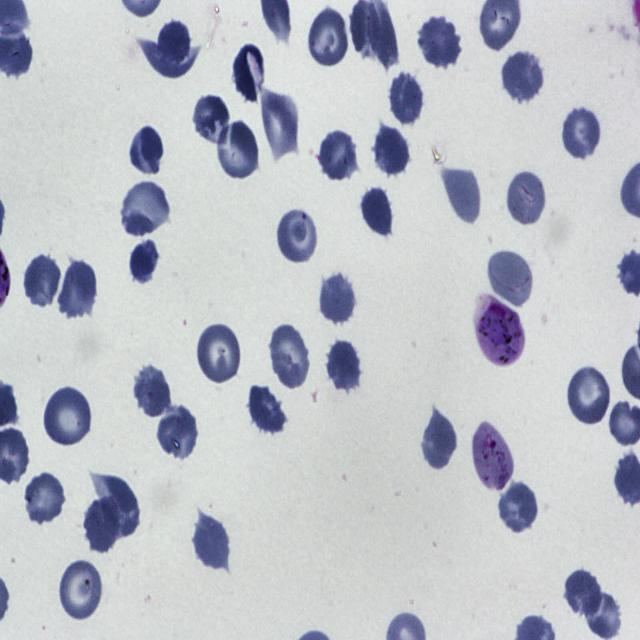difficult: (470, 293, 525, 368)
red blood cell: (42, 385, 94, 450), (564, 362, 612, 428), (194, 320, 243, 384), (259, 86, 301, 160), (58, 558, 105, 624), (267, 322, 311, 391), (214, 118, 260, 183), (120, 180, 170, 239), (486, 249, 534, 310), (92, 476, 138, 538), (307, 6, 350, 70), (155, 404, 200, 464), (441, 166, 483, 228), (276, 207, 320, 266), (500, 48, 546, 104), (419, 406, 458, 472), (560, 103, 603, 162), (416, 14, 462, 69), (190, 512, 232, 571), (506, 168, 547, 228), (497, 479, 540, 535), (562, 564, 604, 621), (58, 259, 97, 320), (24, 470, 66, 526), (317, 127, 359, 183), (132, 362, 172, 420), (318, 269, 358, 326), (246, 384, 288, 437), (84, 496, 122, 554), (192, 91, 231, 147), (388, 71, 426, 126), (372, 124, 411, 177), (22, 256, 61, 309), (128, 124, 166, 178), (582, 589, 622, 640), (325, 337, 362, 392), (232, 44, 267, 102), (360, 185, 394, 238), (126, 235, 159, 285), (156, 20, 192, 64)
ring: (472, 420, 514, 493)
